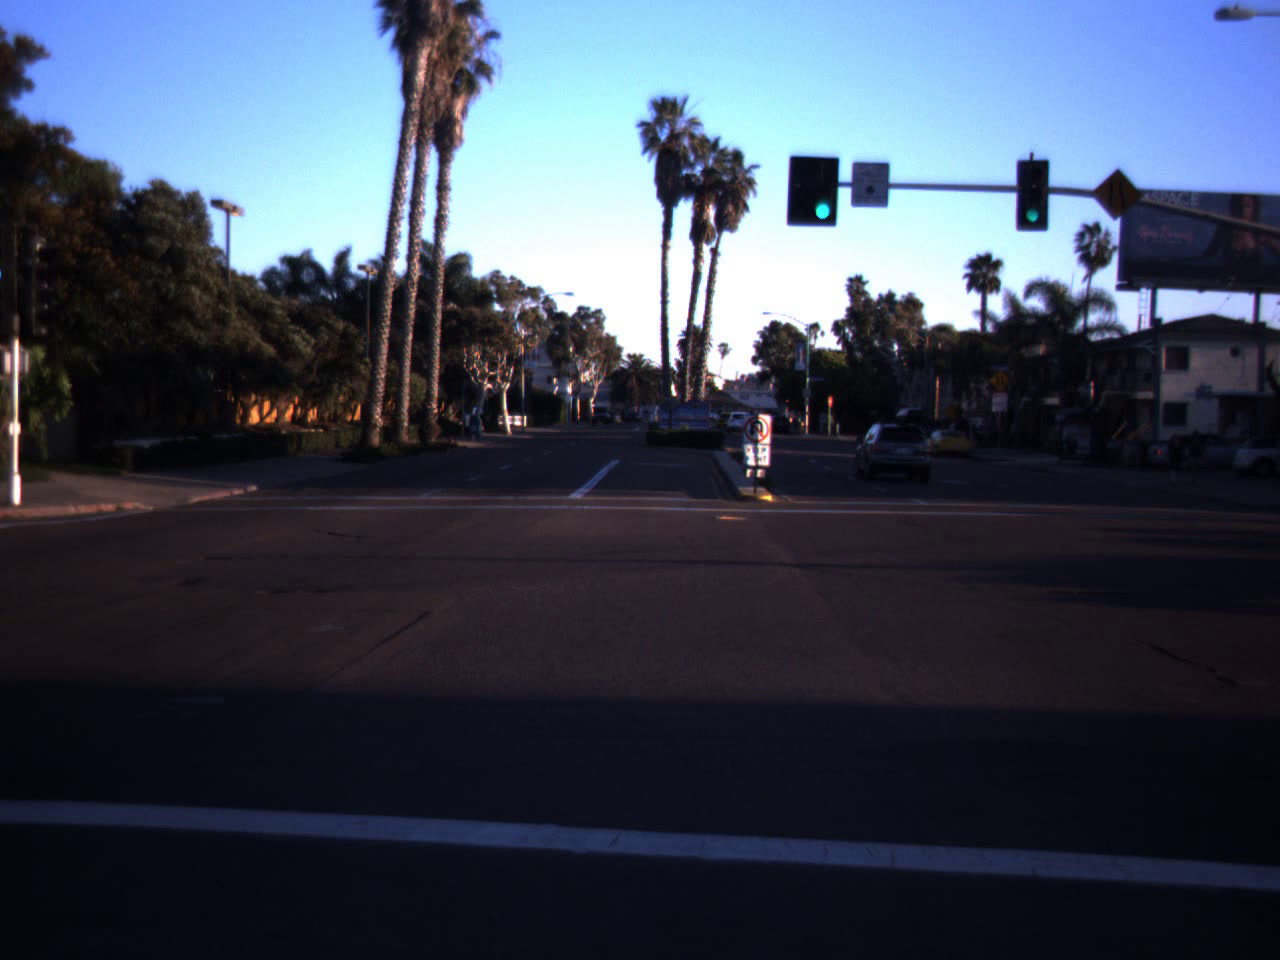go: (808, 159, 833, 224), (1022, 189, 1043, 224)
